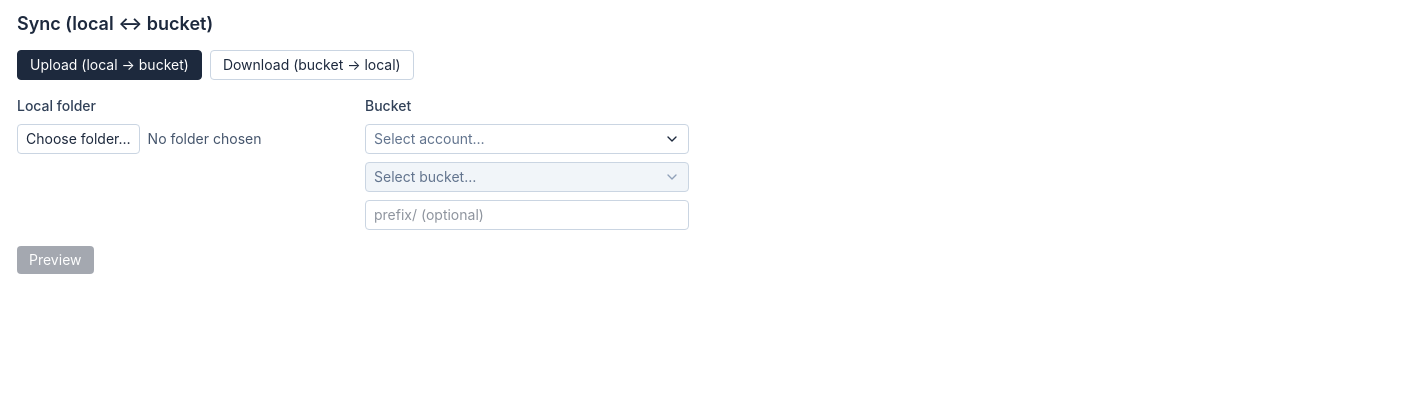
Test: LocalSyncScreen › Preview shows the plan summary and sends upload args
Click the button "Choose folder…" at {"x": 78, "y": 139}, box [17,124,140,154]
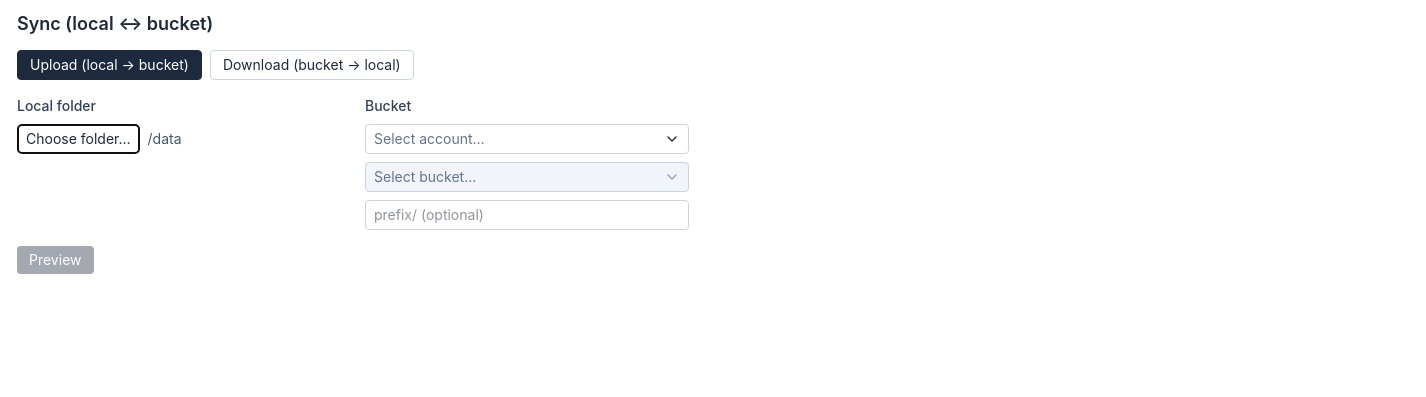
Expected: the text "/data" is shown, [148,129,182,149]
Click the dropdown named "Bucket account" at {"x": 429, "y": 138}, box [365,124,689,154]
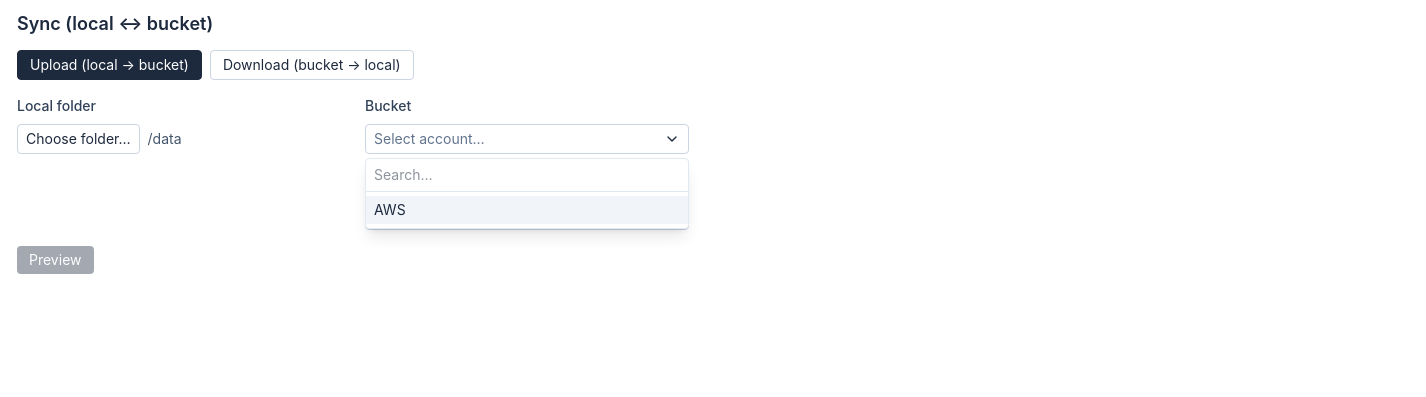
Click the option "AWS" at {"x": 390, "y": 210}, box [366,196,688,224]
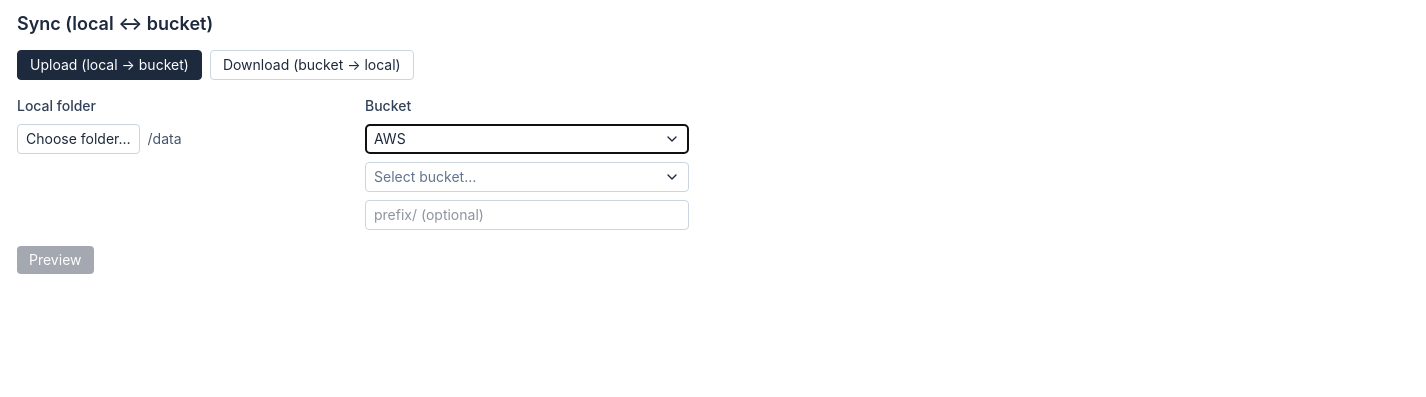
Click the dropdown named "Bucket bucket" at {"x": 425, "y": 176}, box [365,162,689,192]
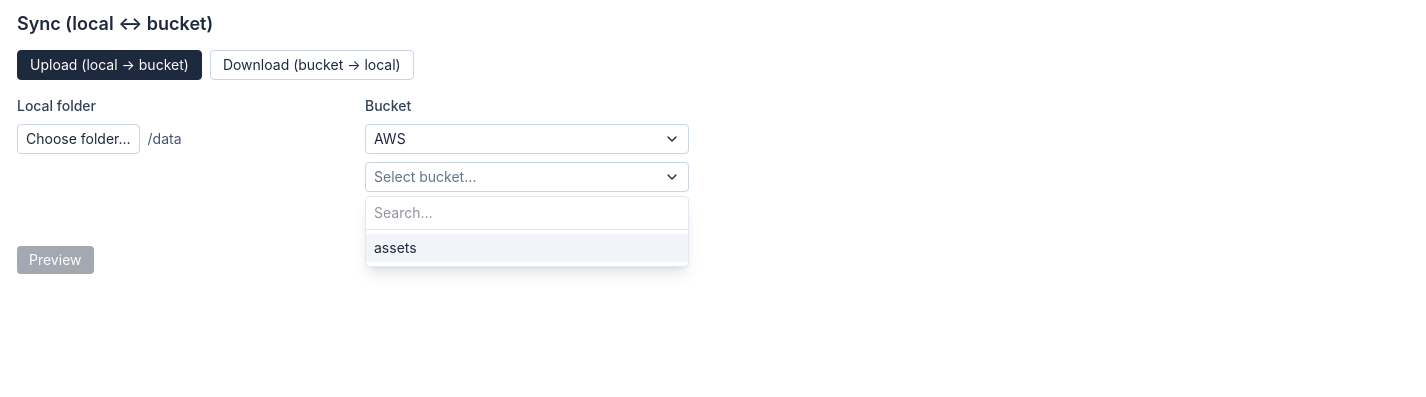
Click the option "assets" at {"x": 395, "y": 248}, box [366,234,688,262]
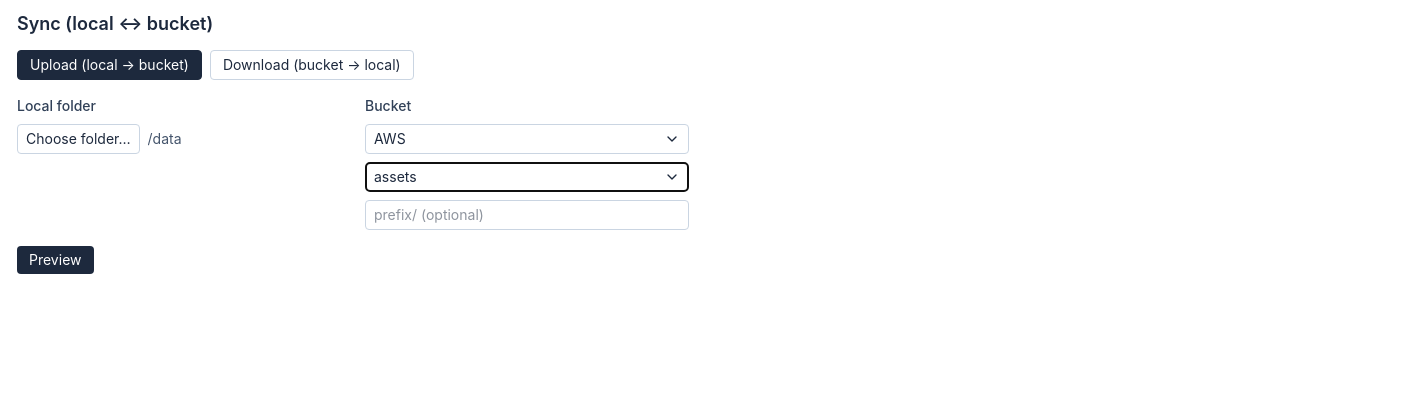
Click the button "Preview" at {"x": 55, "y": 260}, box [17,246,94,274]
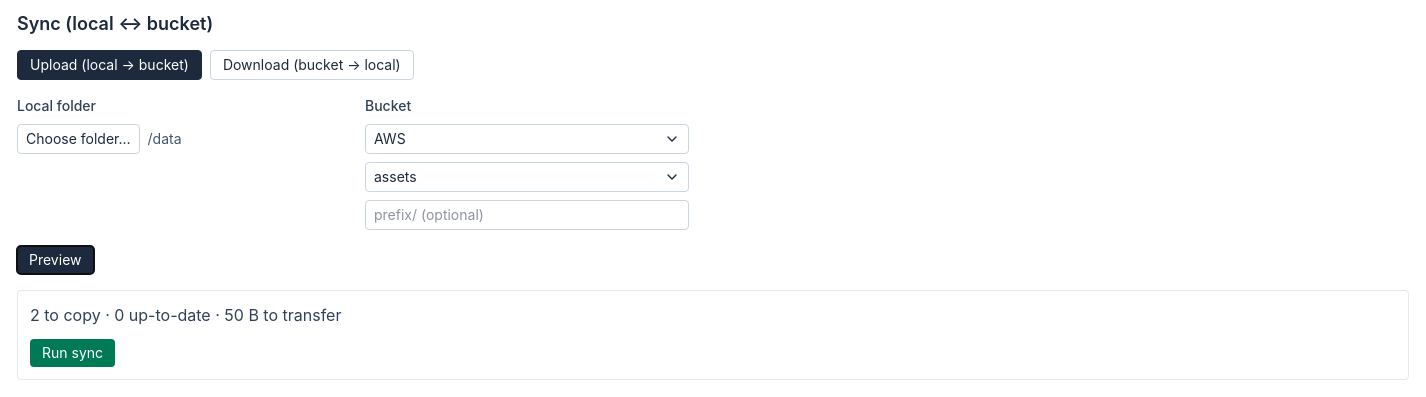
Expected: the text "2 to copy · 0 up-to-date · 50 B to transfer" is shown, [30,305,342,325]
